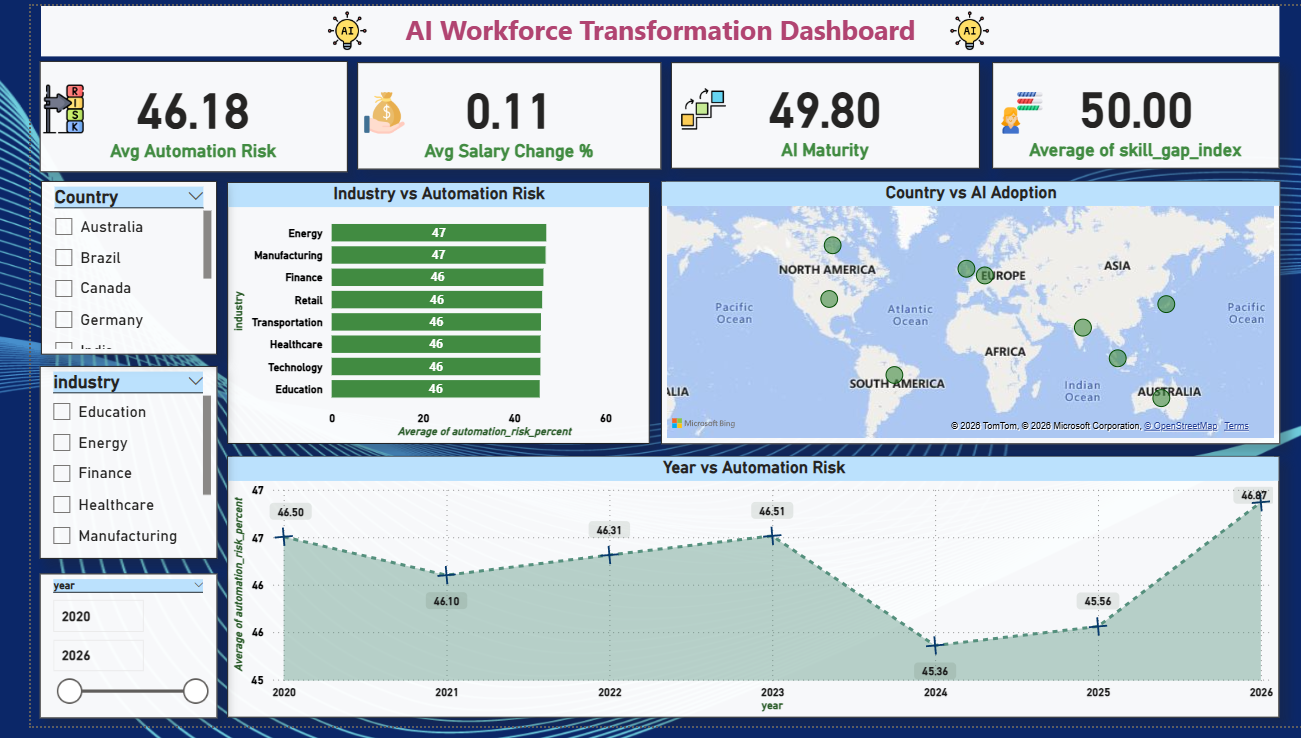

The dashboard page shown, as its layout file describes it:
{"tool":"powerbi","page":{"name":"Page 1","canvas":[1280,720],"ordinal":0},"visuals":[{"type":"card","fields":{"Values":["ai_jobs.Avg Automation Risk"]},"box":[8.4,55.5,307.6,111],"z":0},{"type":"card","fields":{"Values":["ai_jobs.Avg Salary Change %"]},"box":[325.7,56.7,304,107.4],"z":1000},{"type":"card","fields":{"Values":["ai_jobs.AI Maturity"]},"box":[639.4,56.7,308.8,106.2],"z":2000},{"type":"card","fields":{"Values":["Avg(ai_jobs.skill_gap_index)"]},"box":[961.5,56.7,287.1,106.2],"z":3000},{"type":"clusteredBarChart","title":"Industry vs Automation Risk","fields":{"Category":["ai_jobs.industry"],"Y":["Avg(ai_jobs.automation_risk_percent)"]},"box":[196.6,176.1,422.3,261.8],"z":4000},{"type":"map","title":"Country vs AI Adoption","fields":{"Category":["ai_jobs.country"],"Size":["Avg(ai_jobs.ai_adoption_level)"]},"box":[629.8,174.9,618.9,263],"z":5000},{"type":"lineChart","title":"Year vs Automation Risk","fields":{"Category":["ai_jobs.year"],"Y":["Avg(ai_jobs.automation_risk_percent)"]},"box":[196.6,450,1052,261.8],"z":6000},{"type":"slicer","fields":{"Values":["ai_jobs.industry"]},"box":[8.4,359.5,177.3,193],"z":7000},{"type":"slicer","fields":{"Values":["ai_jobs.year"]},"box":[8.4,567,177.3,144.8],"z":8000},{"type":"slicer","fields":{"Values":["ai_jobs.country"]},"box":[9.7,174.9,176.1,173.7],"z":9000},{"type":"textbox","box":[10,0,1238.8,50],"z":10000},{"type":"image","box":[285,0,62.5,50],"z":11000},{"type":"image","box":[907.5,0,62.5,50],"z":12000},{"type":"image","box":[0,73.8,65,58.8],"z":13000},{"type":"image","box":[326.2,81.2,55,51.2],"z":14000},{"type":"image","box":[645,73.8,55,58.8],"z":15000},{"type":"image","box":[961.2,81.2,58.8,51.2],"z":16000}]}

Visuals, with their boxes in screenshot pixels (x1, y1, x2, y2), scaled from the page's 1280x720 canvas onto the 1301x738 screenshot:
card - ai_jobs.Avg Automation Risk: BBox(9, 57, 321, 171)
card - ai_jobs.Avg Salary Change %: BBox(331, 58, 640, 168)
card - ai_jobs.AI Maturity: BBox(650, 58, 964, 167)
card - Avg(ai_jobs.skill_gap_index): BBox(977, 58, 1269, 167)
"Industry vs Automation Risk" clusteredBarChart: BBox(200, 181, 629, 449)
"Country vs AI Adoption" map: BBox(640, 179, 1269, 449)
"Year vs Automation Risk" lineChart: BBox(200, 461, 1269, 730)
slicer - ai_jobs.industry: BBox(9, 368, 189, 566)
slicer - ai_jobs.year: BBox(9, 581, 189, 730)
slicer - ai_jobs.country: BBox(10, 179, 189, 357)
textbox: BBox(10, 0, 1269, 51)
image: BBox(290, 0, 353, 51)
image: BBox(922, 0, 986, 51)
image: BBox(0, 76, 66, 136)
image: BBox(332, 83, 387, 136)
image: BBox(656, 76, 711, 136)
image: BBox(977, 83, 1037, 136)
